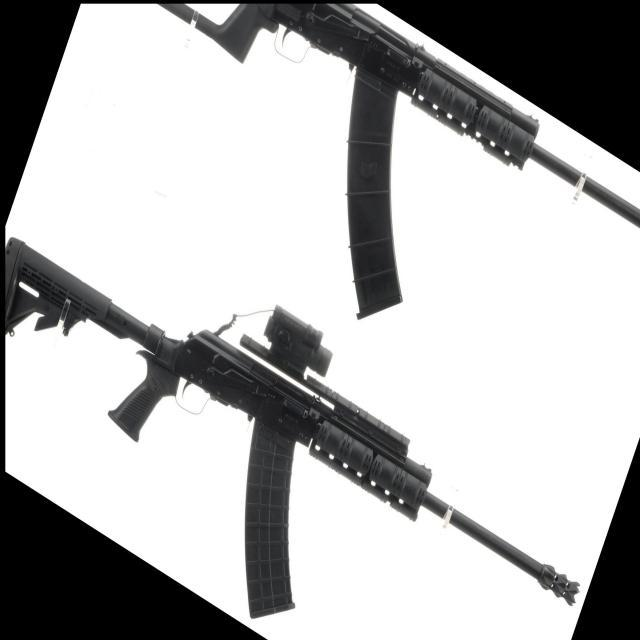weapon: (5, 236, 581, 622), (156, 1, 640, 323)
